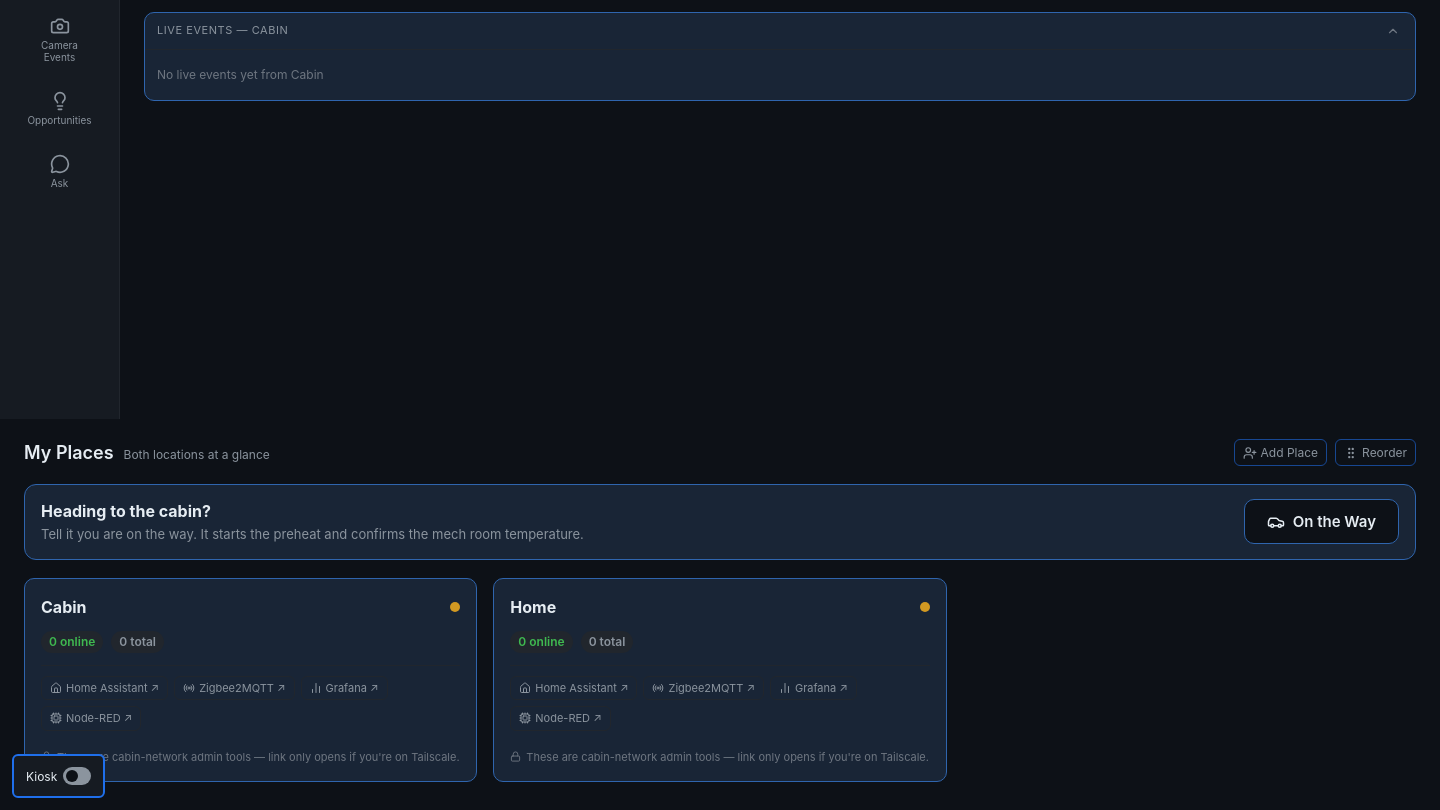
Test: FamilyHubPanel — Add Place › Add Place reveals a form requiring at least ID and Display Name
(page scrolled)
Click the button "Add Place": coordinates (1280, 452) [1234,439,1327,466]
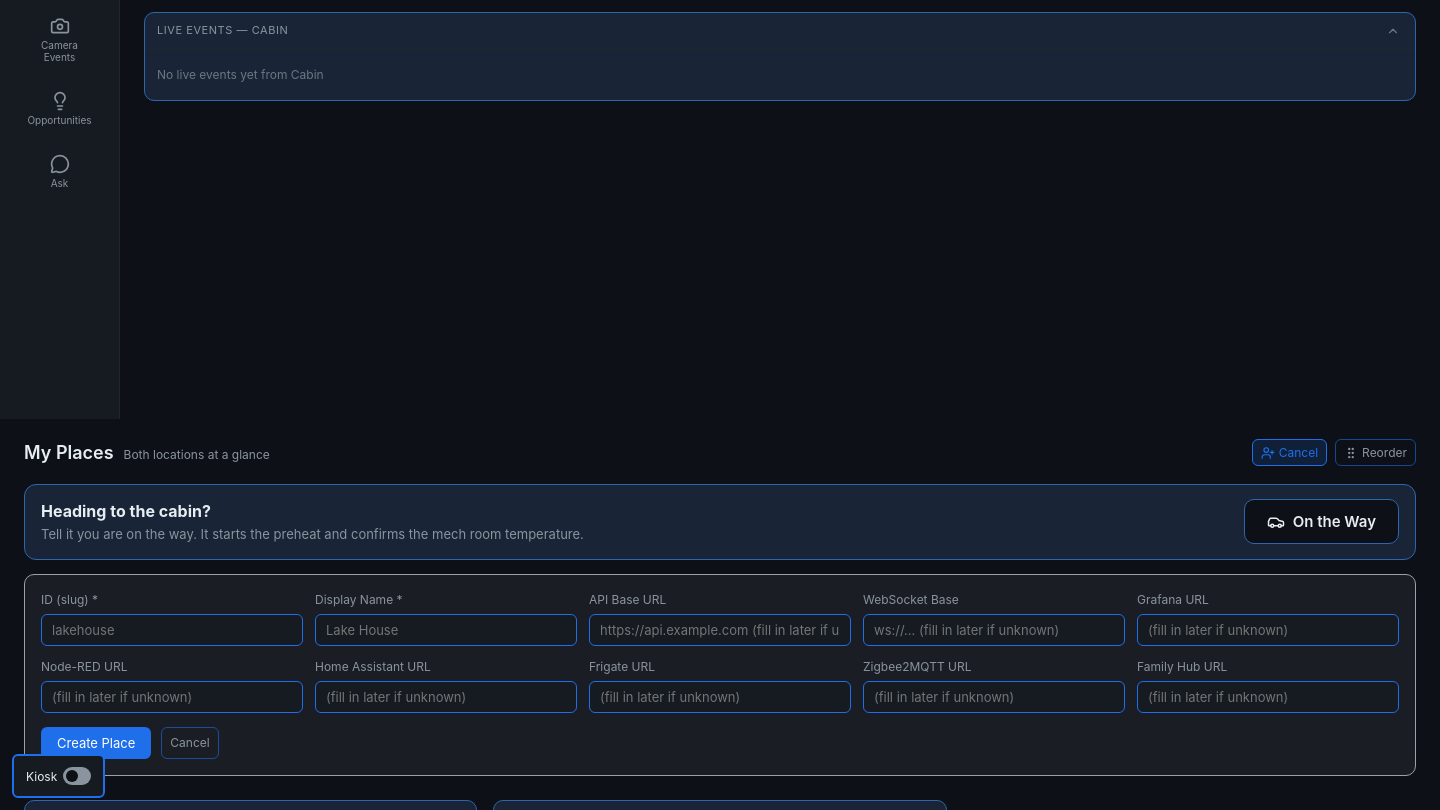
Result: the field with placeholder "lakehouse" is shown at [41,614,303,646]
Click the button "Create Place": coordinates (96, 742) [41,726,151,758]
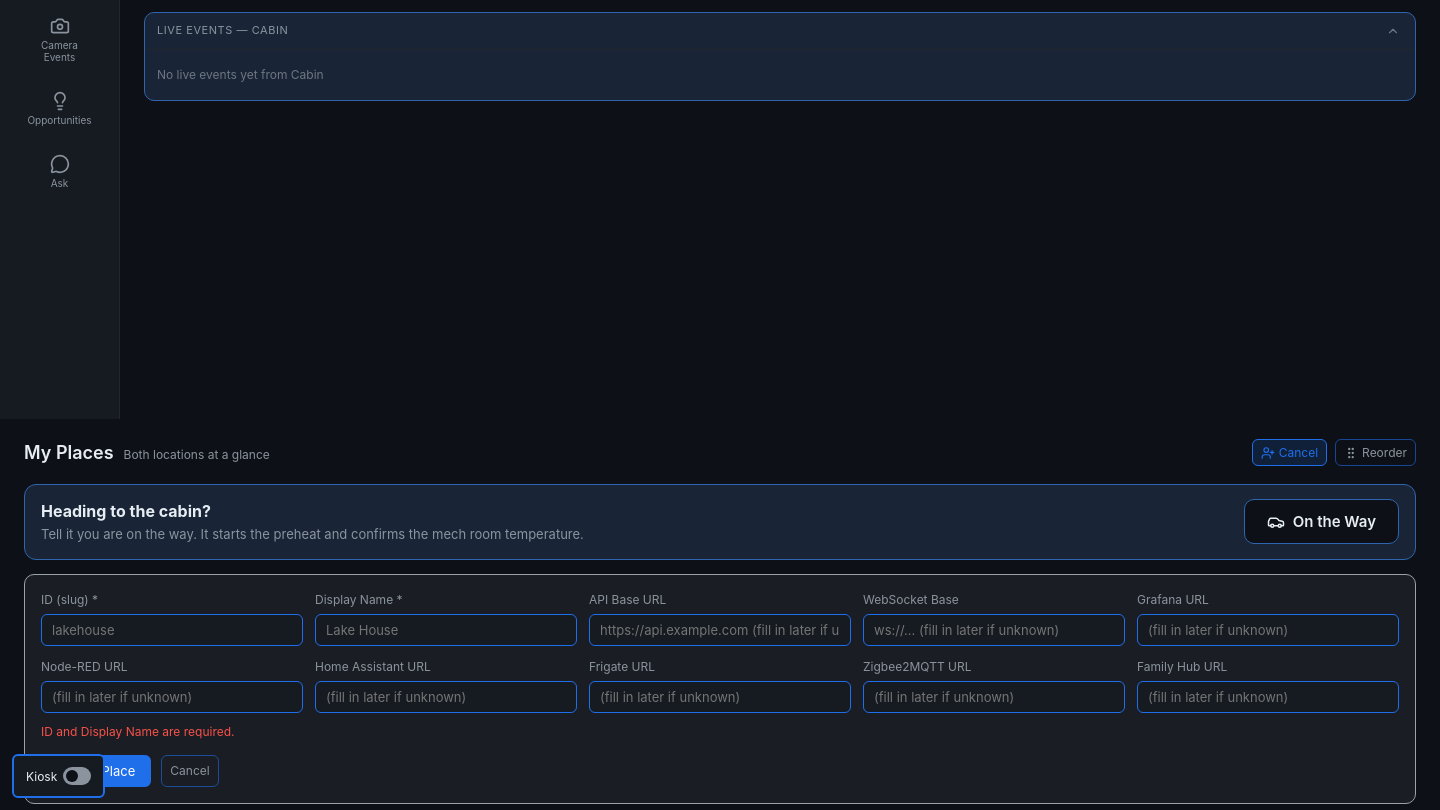
Result: the text "ID and Display Name are required." is shown at [41,724,234,738]
